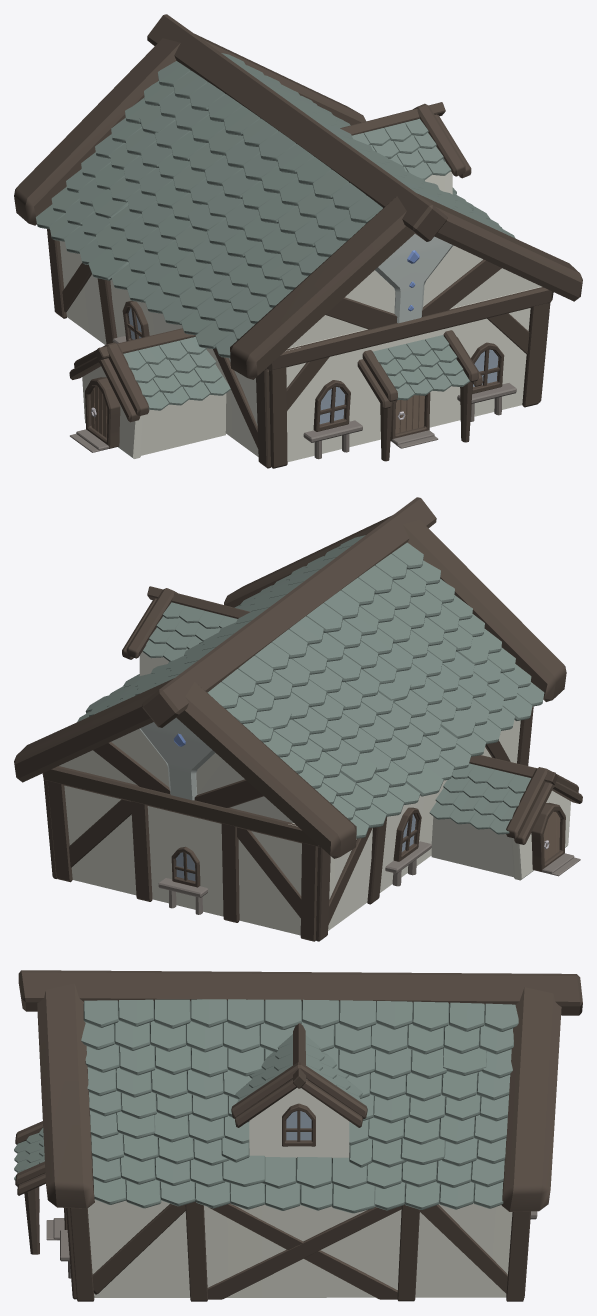
The model's file is Green house.fbx.
The picture shows the model from 3 angles, top to bottom: view 1: azimuth 30°, elevation 25°; view 2: azimuth 150°, elevation 25°; view 3: azimuth 270°, elevation 25°; orthographic projection. The views are drawn at different scales.
Parts seen in each view (by area): view 1: polySurface2132; view 2: polySurface2132; view 3: polySurface2132.
Part boxes in pixels (<box>): polySurface2132: <box>14,14,582,468</box>; polySurface2132: <box>14,497,582,941</box>; polySurface2132: <box>14,970,582,1301</box>.
Bounding box in the file's own units: 15.34 × 8.53 × 16.72.
